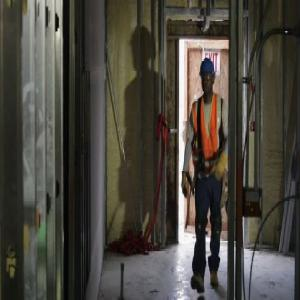blue: (199, 58, 218, 97)
